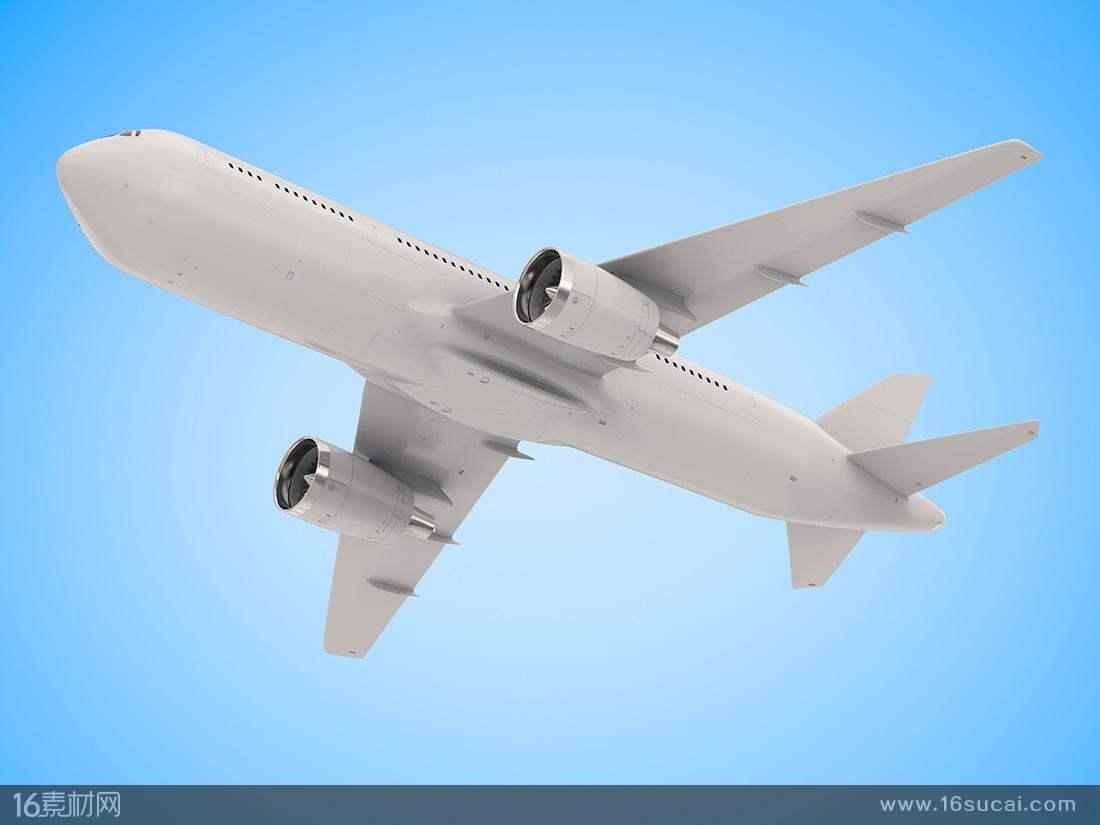airplane: (45, 94, 1046, 624)
